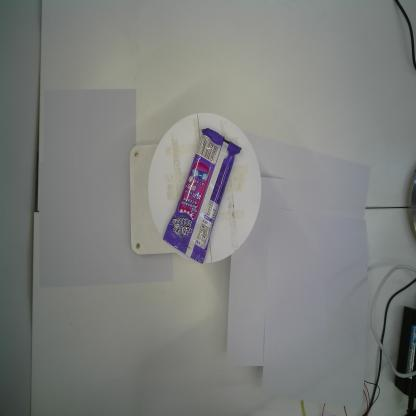Candy: (163, 128, 242, 264)
